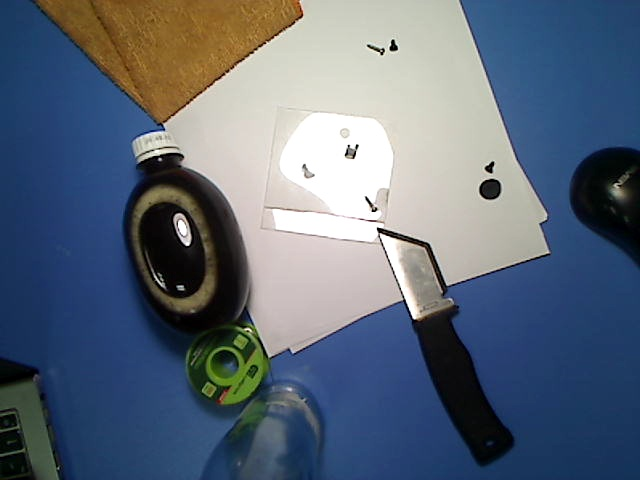plast_bottle: (116, 124, 255, 341)
